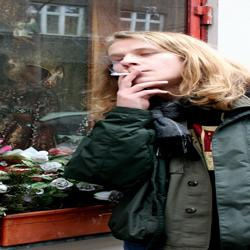smoking: (107, 67, 158, 81)
